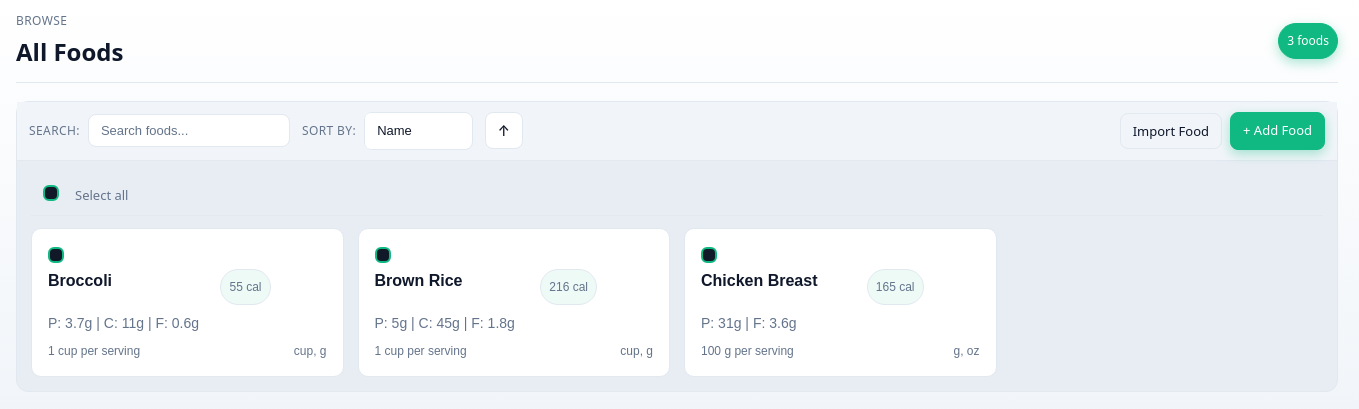
Scenario: Foods List Page › Sorting › toggles sort direction
Click the button "↑" at [504, 131], box [485, 112, 523, 149]
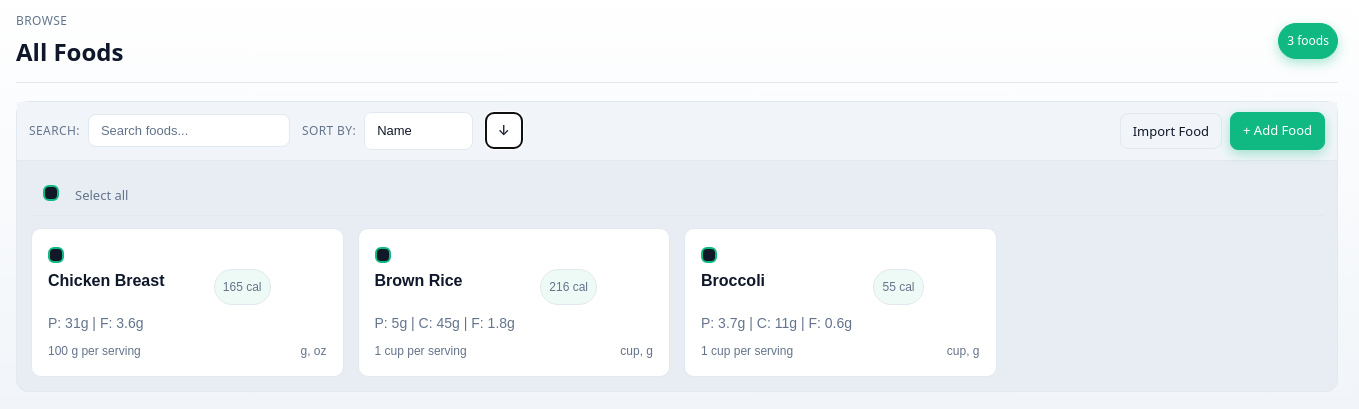
Check: the button "↓" is shown
Click the button "↓" at [504, 131], box [485, 112, 523, 149]
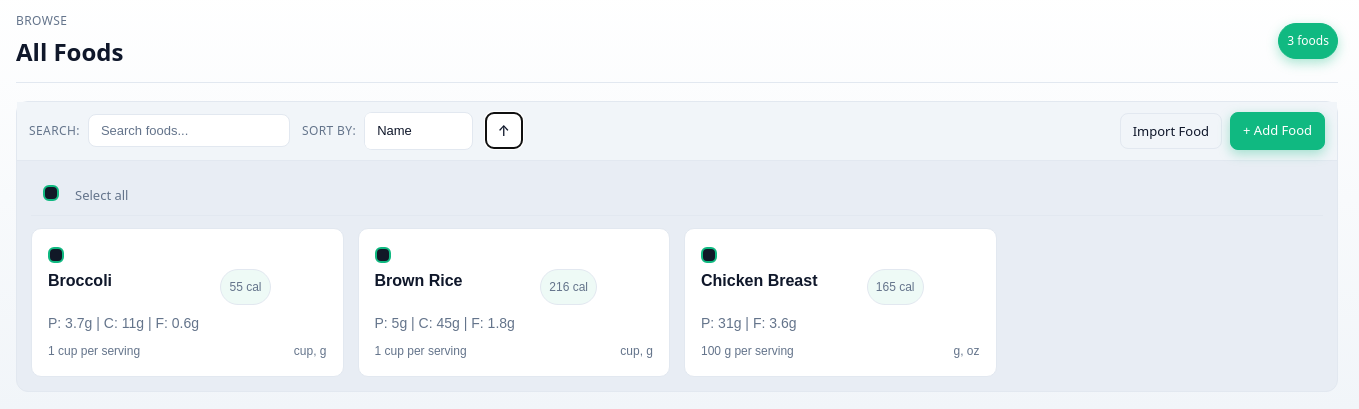
Check: the button "↑" is shown, box [485, 112, 523, 149]
